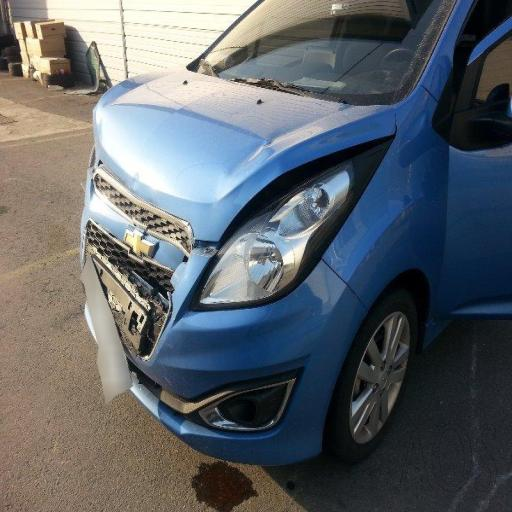broken: (83, 161, 281, 412)
